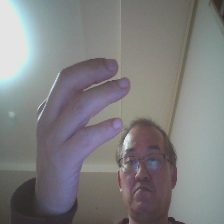hand: (28, 52, 131, 218)
